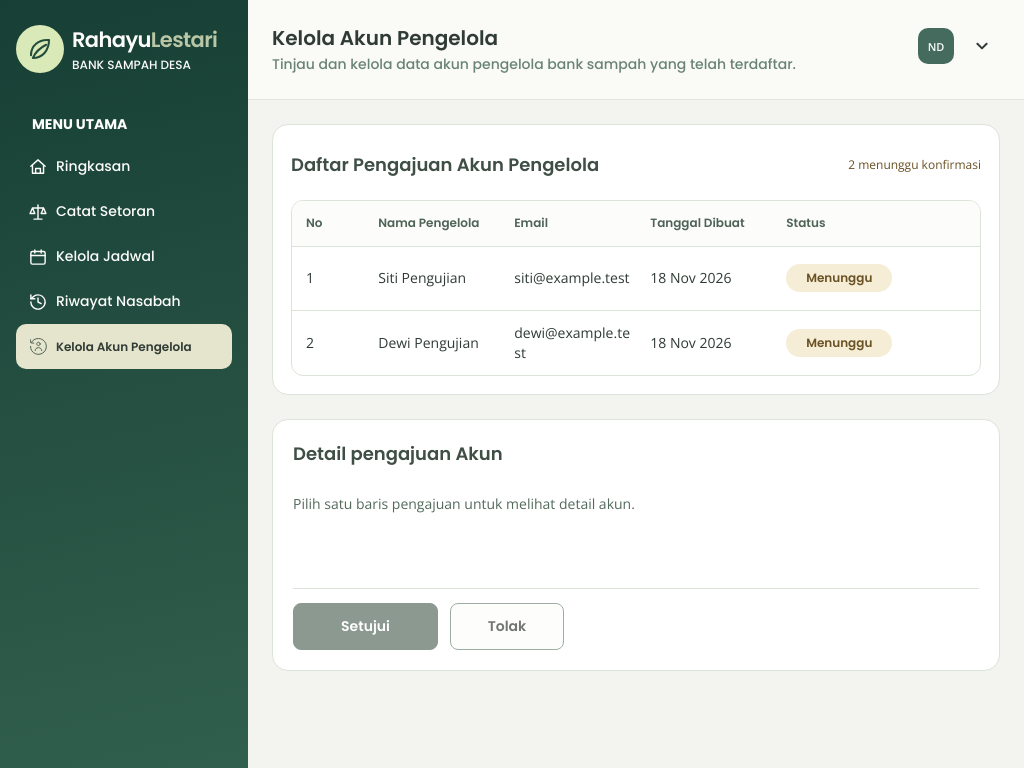
Test case: Kelola Akun Pengelola › approves the captured target once, refreshes once, and preserves the chair session
Click the button "Siti Pengujian".
click(426, 278)  # box [378, 268, 473, 288]
(page scrolled)
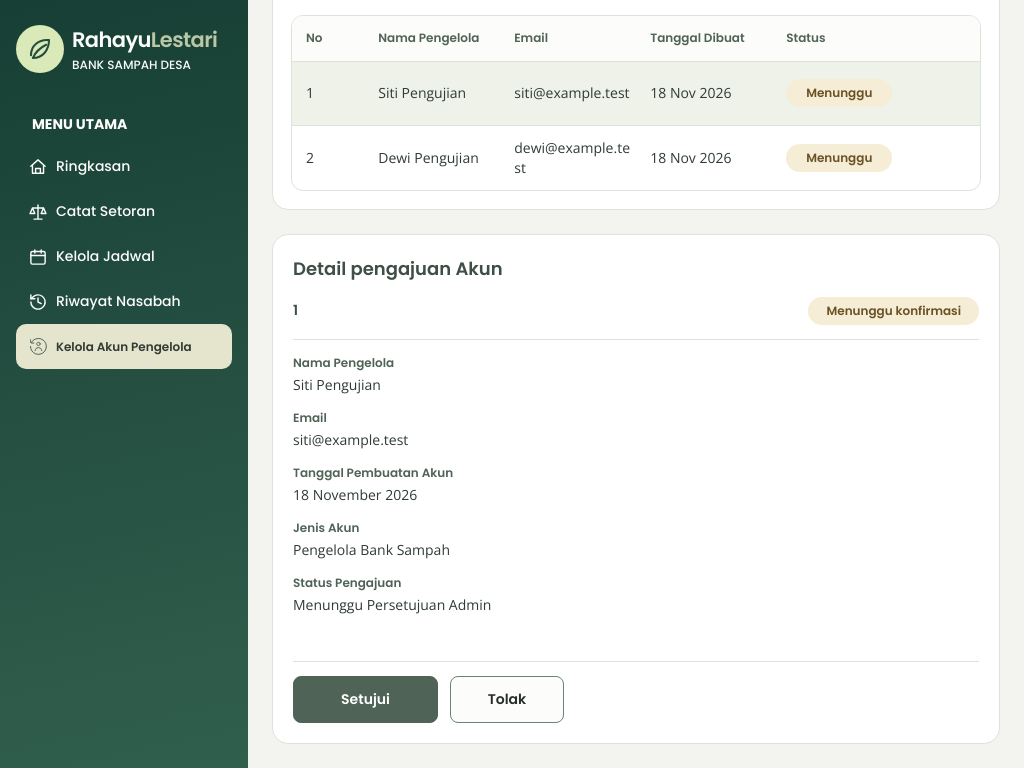
Expected: the text "siti@example.test" is shown, [293, 430, 408, 448]
Click the button "Setujui".
click(366, 699)  # box [293, 676, 438, 722]
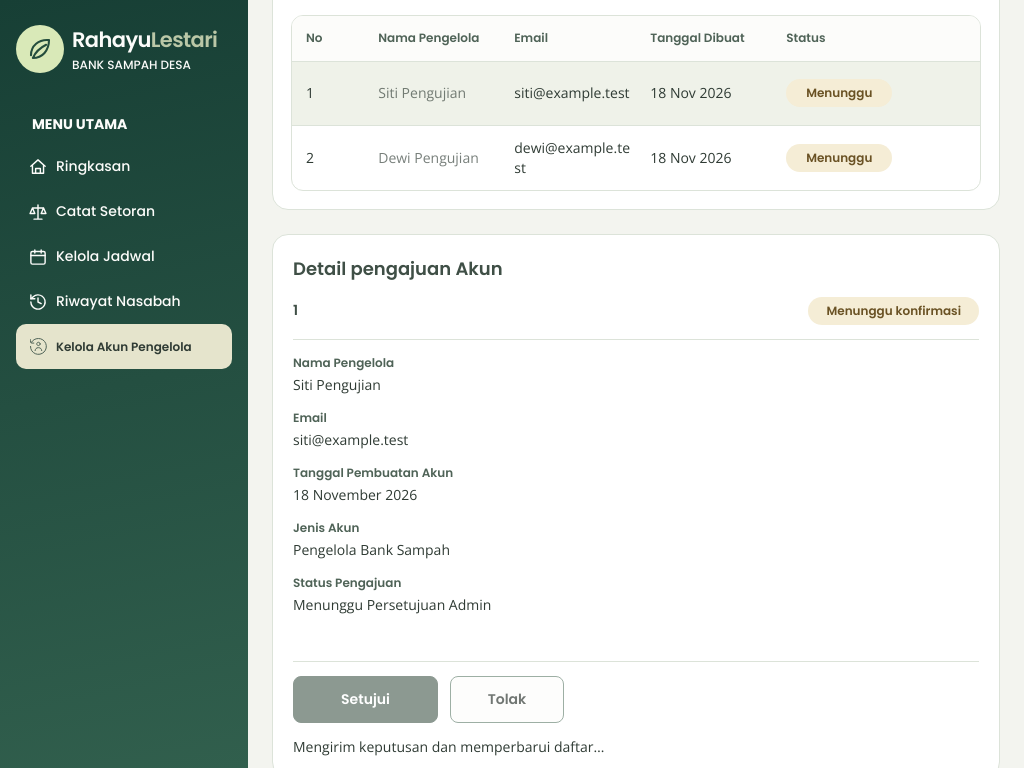
Click the button "Setujui".
click(366, 699)  # box [293, 676, 438, 722]
(page scrolled)
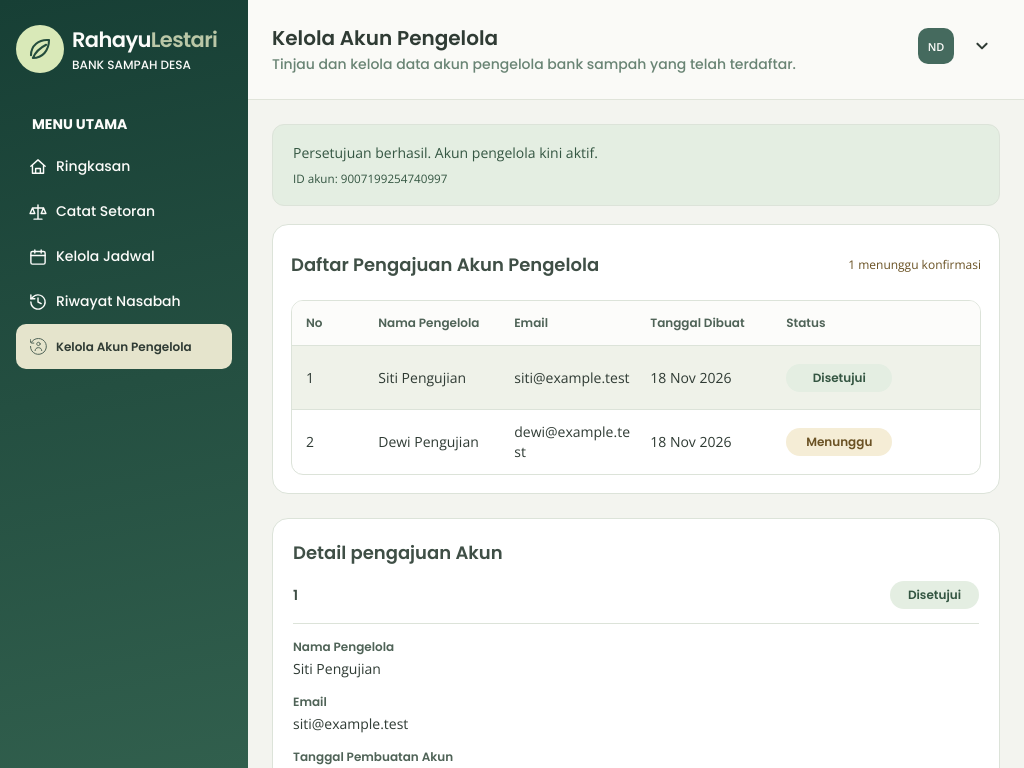
Expected: the text "siti@example.test" is shown, [500, 346, 636, 410]
Expected: the text "Persetujuan berhasil. Akun pengelola kini aktif." is shown, [293, 143, 598, 162]
Expected: the button "1 menunggu konfirmasi" is shown, [848, 256, 981, 274]
